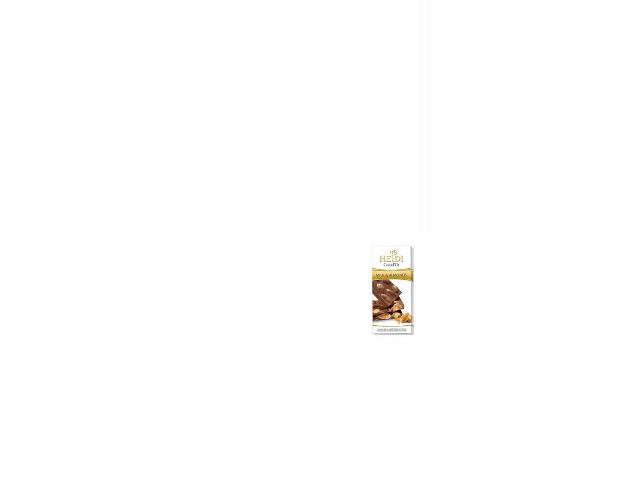chocolate: (362, 240, 421, 333)
